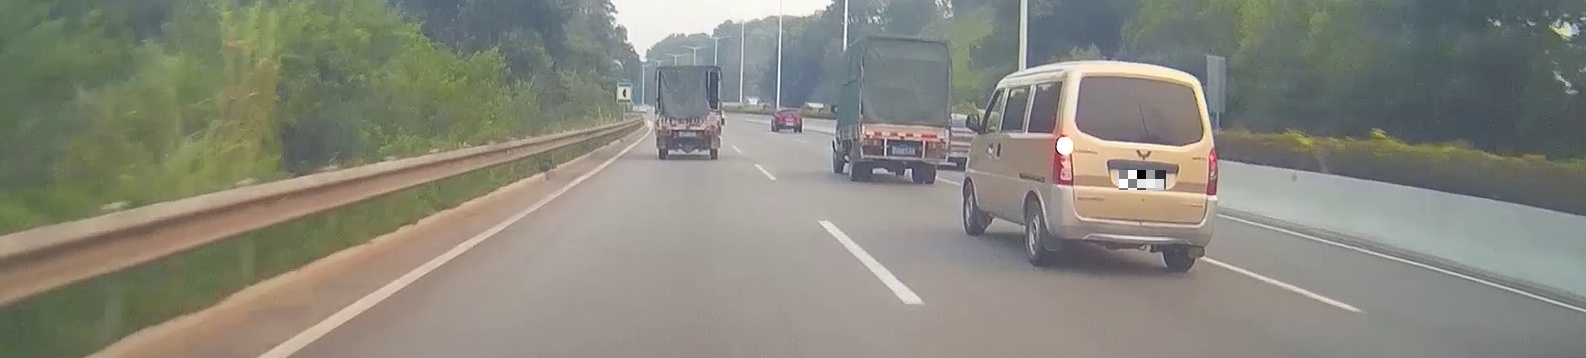L_light: (1051, 135, 1074, 186), (863, 139, 882, 146), (660, 130, 672, 135)
R_light: (1204, 145, 1218, 197), (928, 142, 945, 150), (705, 130, 718, 136)
T_light: (1132, 77, 1154, 85), (897, 131, 907, 137), (683, 124, 696, 126)
day-left: (1047, 61, 1220, 273)
day-no: (855, 33, 952, 184), (653, 63, 722, 160)
plate_1: (1119, 170, 1166, 190)
